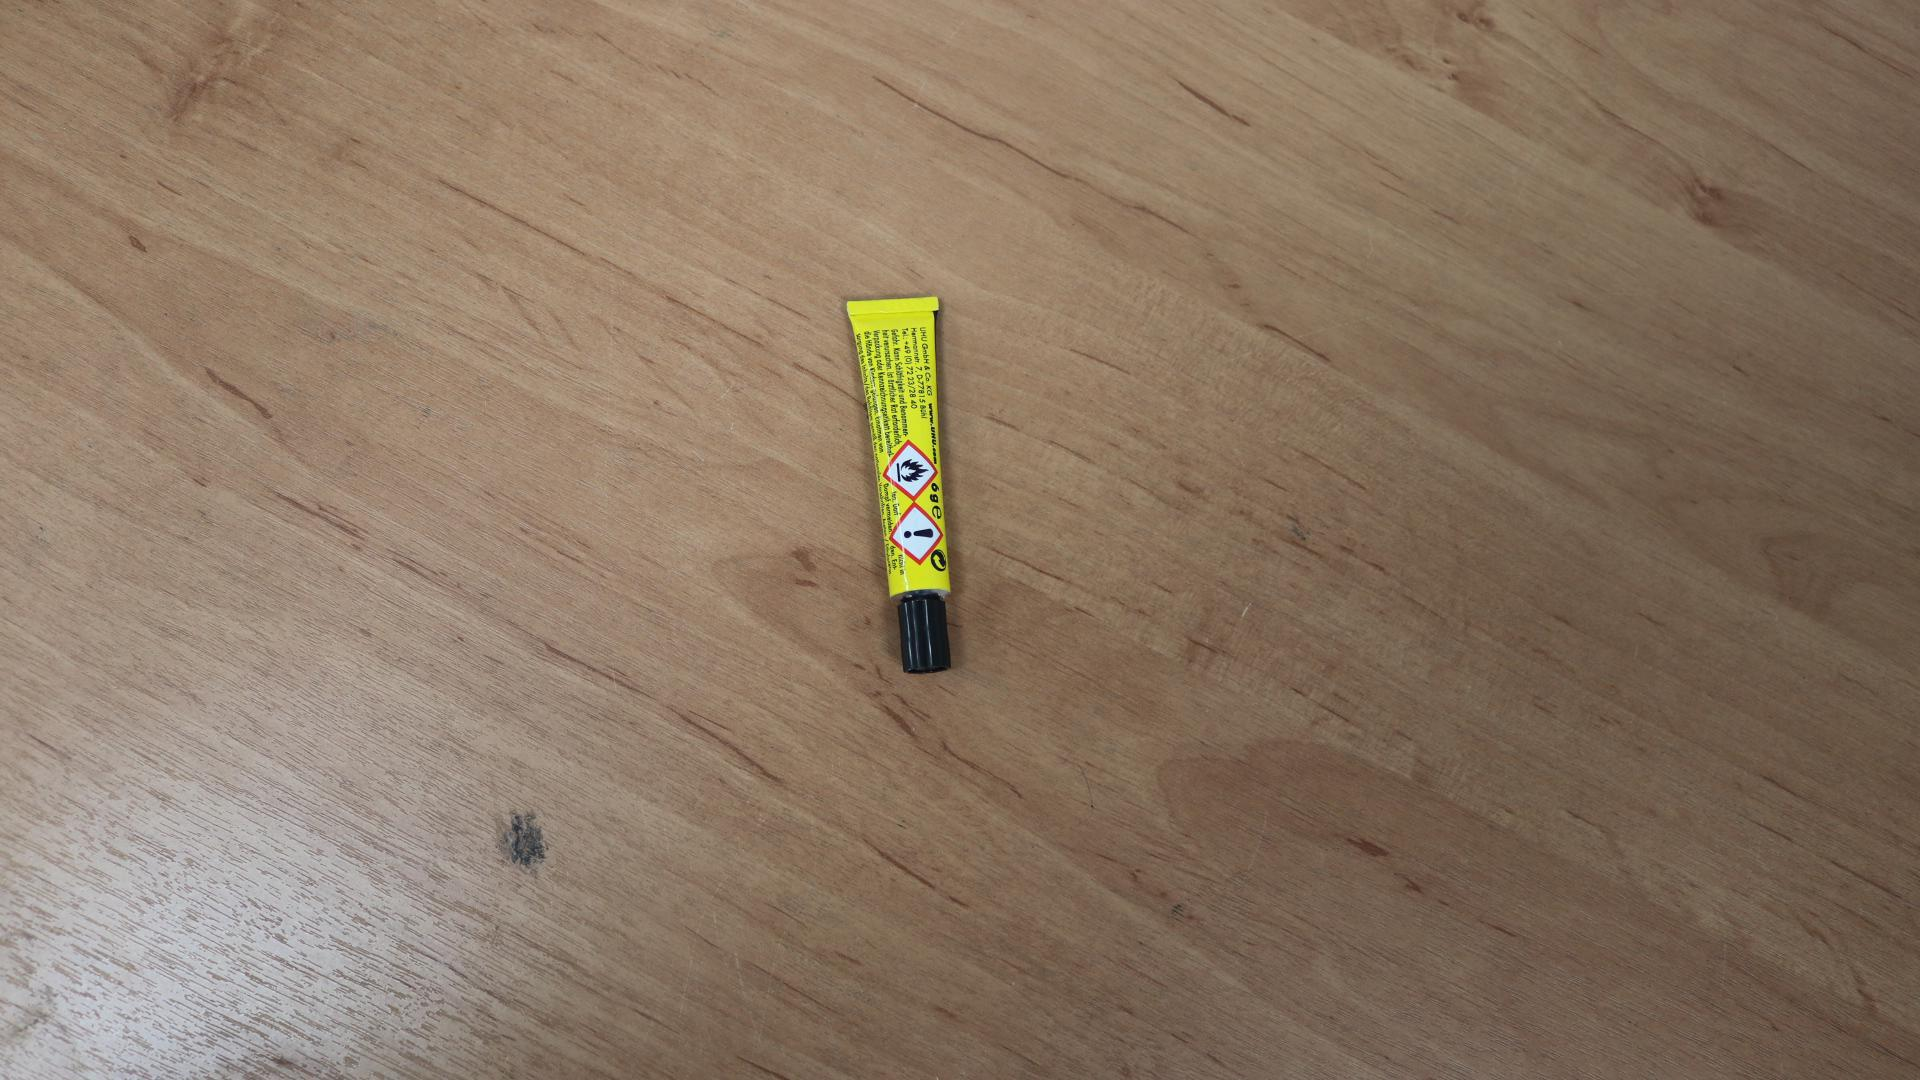Head: (920, 627, 928, 635)
Tail: (890, 302, 898, 311)
Tube: (845, 296, 956, 675)
